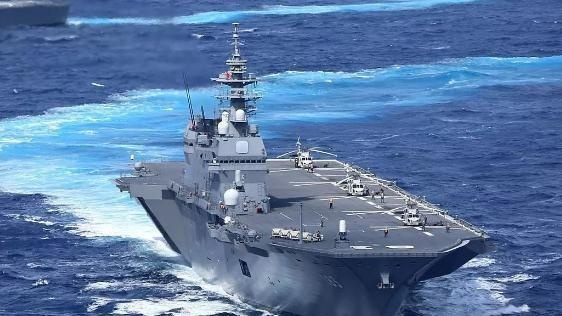warship: (104, 20, 498, 311)
